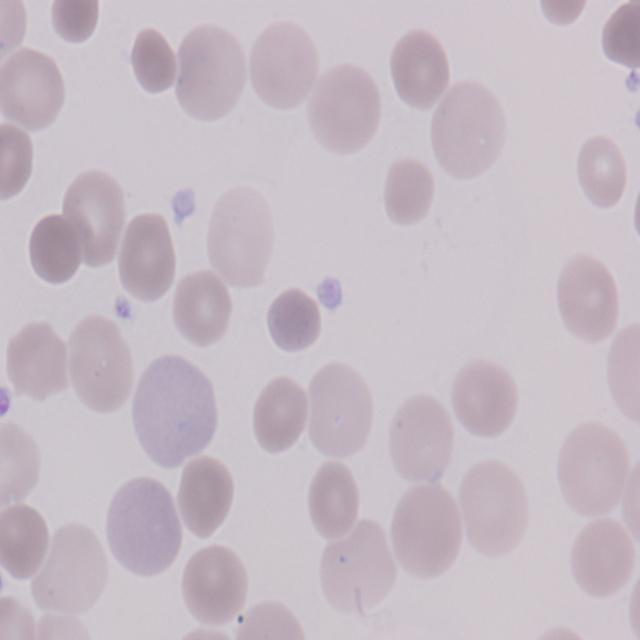RBC: (202, 182, 280, 287), (428, 82, 508, 184), (174, 22, 250, 128), (552, 419, 630, 522), (106, 474, 180, 582), (318, 518, 395, 621), (304, 61, 384, 160), (248, 14, 324, 118), (458, 456, 532, 562), (64, 312, 139, 416), (303, 359, 378, 462), (392, 480, 465, 584), (386, 393, 456, 487), (450, 356, 522, 446), (554, 254, 622, 348), (570, 513, 640, 604), (59, 169, 124, 266), (0, 43, 69, 134), (179, 542, 251, 629), (114, 208, 178, 304), (384, 26, 450, 115), (3, 320, 67, 410), (176, 458, 238, 544), (169, 270, 234, 351), (306, 460, 365, 546), (248, 374, 308, 456), (380, 152, 437, 231), (572, 134, 630, 210), (0, 504, 50, 586), (605, 320, 640, 436), (0, 416, 41, 512), (42, 0, 106, 50), (599, 0, 640, 74), (0, 121, 35, 206), (0, 0, 34, 63), (0, 591, 38, 640)
Spherocyte: (26, 211, 86, 291), (262, 286, 322, 361), (128, 24, 181, 102)
WBC: (131, 340, 228, 474)
